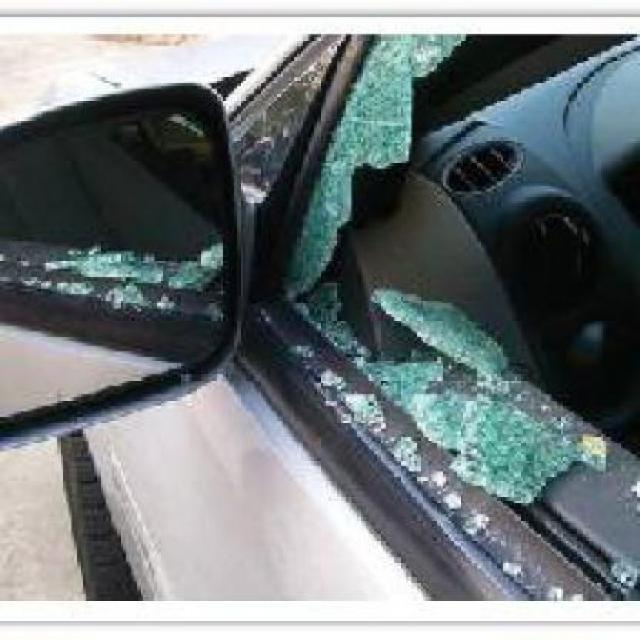damaged-window: (274, 23, 637, 606)
